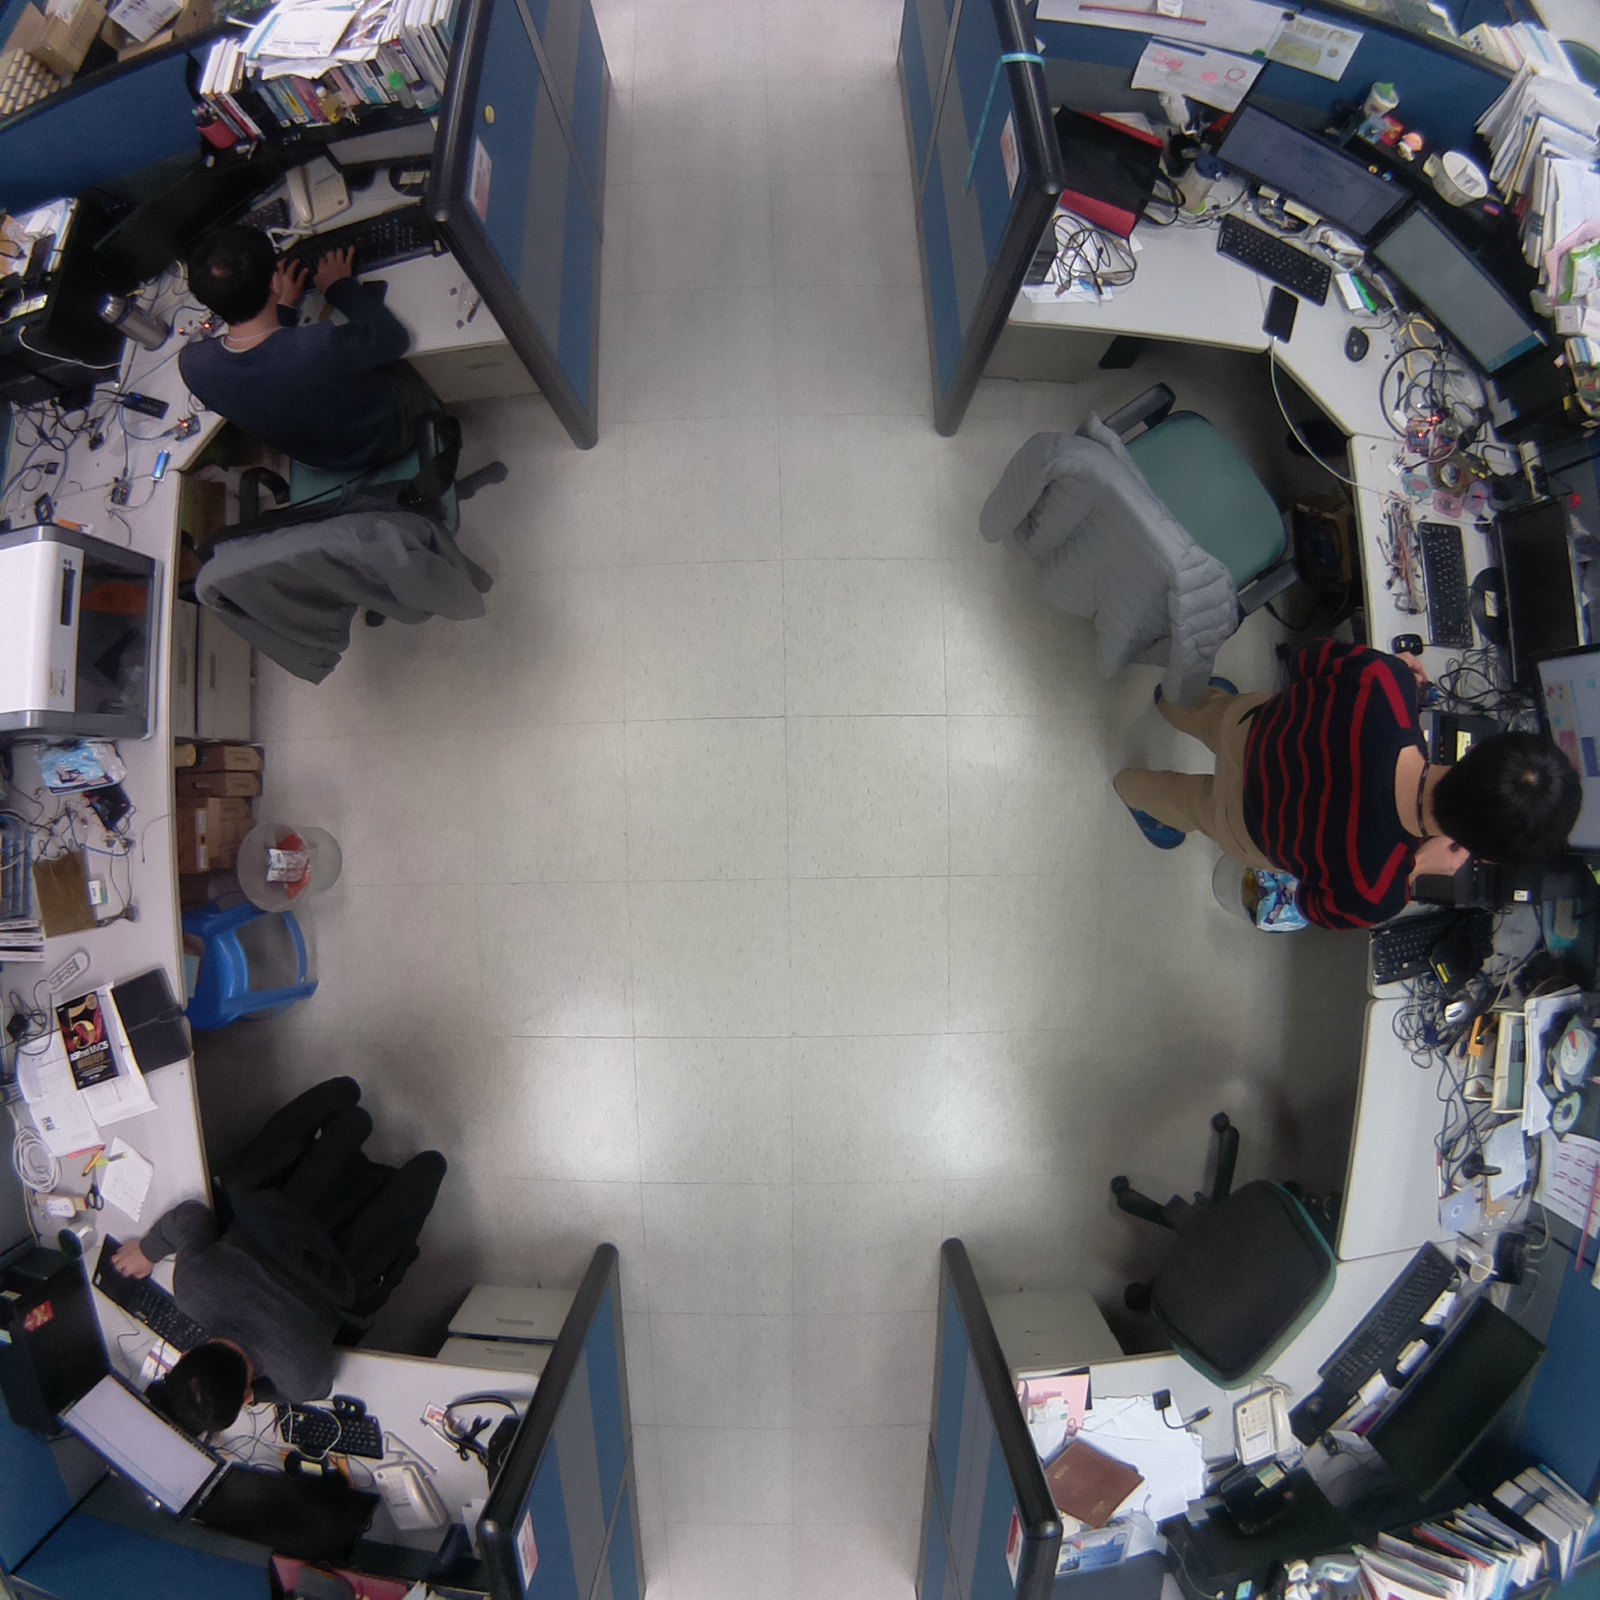chair: (965, 363, 1306, 706), (1073, 1096, 1353, 1401)
head: (1423, 729, 1589, 868), (142, 1338, 272, 1446), (183, 212, 283, 323)
sitting: (162, 209, 524, 701), (93, 1058, 455, 1447)
standing: (1098, 623, 1590, 941)
